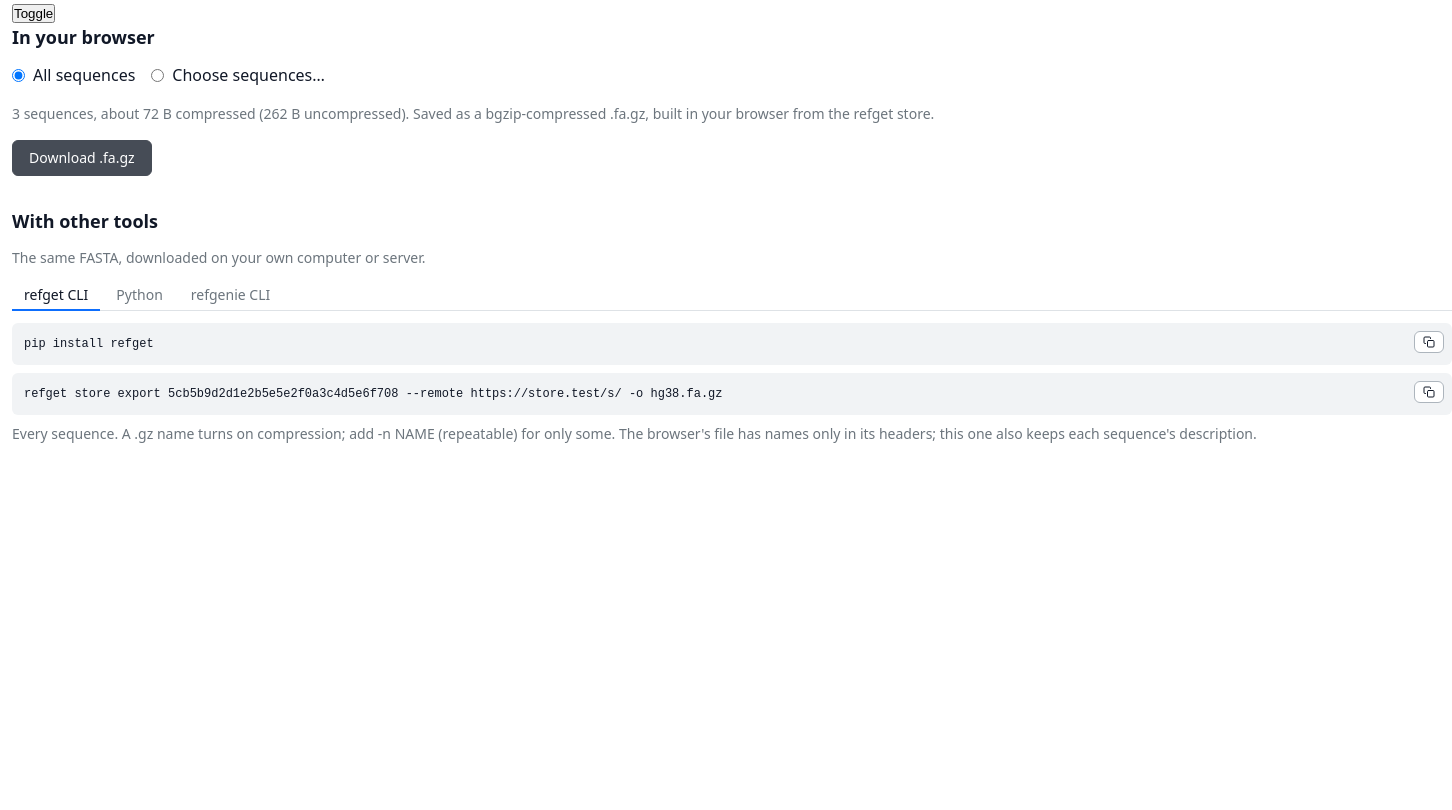
Scenario: Download tab › disables sequences it cannot rebuild, and downloads the rest
Expected: the text "3 sequences" is shown, [12,104,413,123]
Click the radio button labelled "Choose sequences…": click(158, 75) [151,68,164,82]
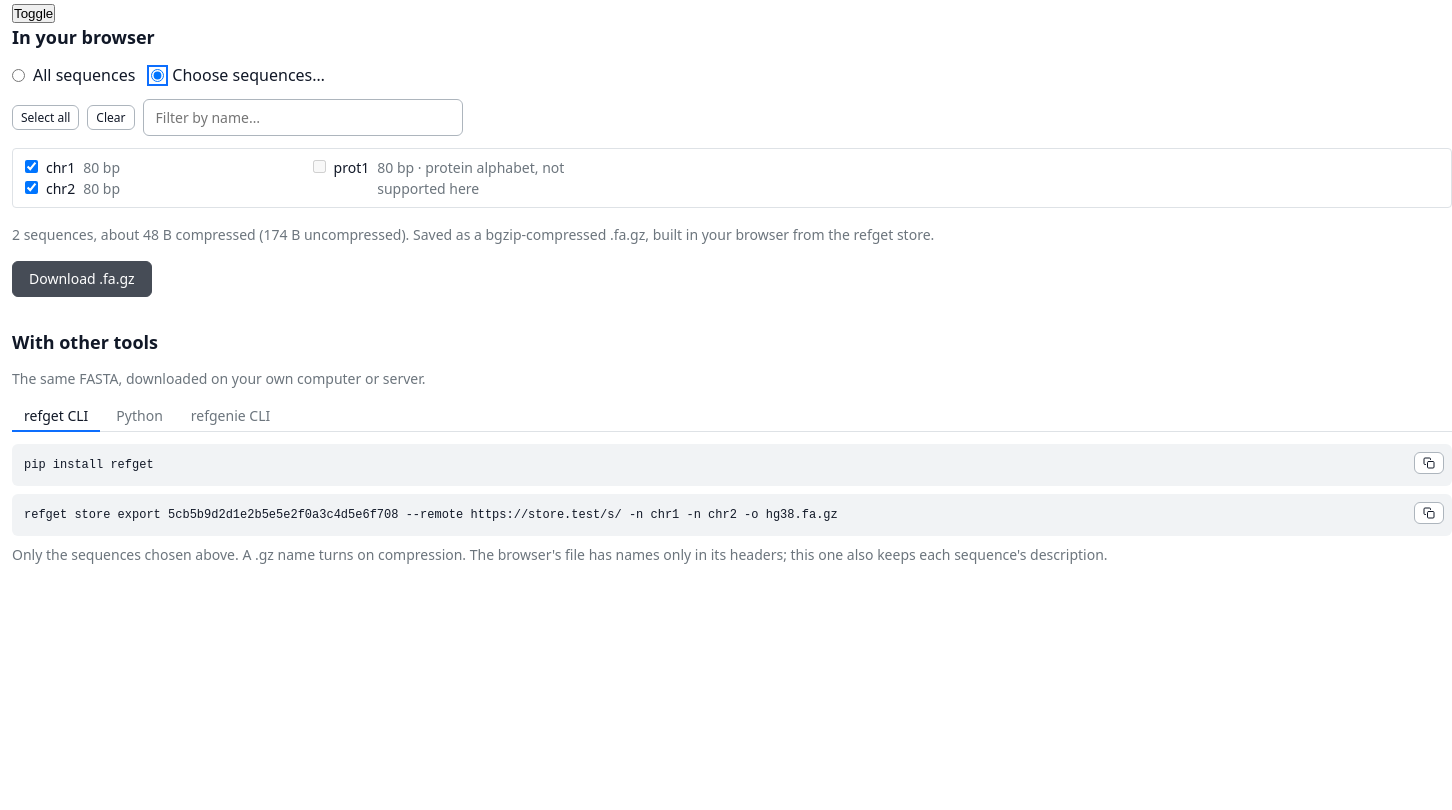
Expected: the checkbox labelled "prot1 80 bp · protein alphabet, not supported here" is disabled, [313,160,326,173]
Expected: the checkbox labelled "prot1 80 bp · protein alphabet, not supported here" is not checked, [313,160,326,173]
Expected: the text "80 bp · protein alphabet, not supported here" is shown, [377,157,576,199]
Click the button "Select all": click(46, 118) [12,105,79,130]
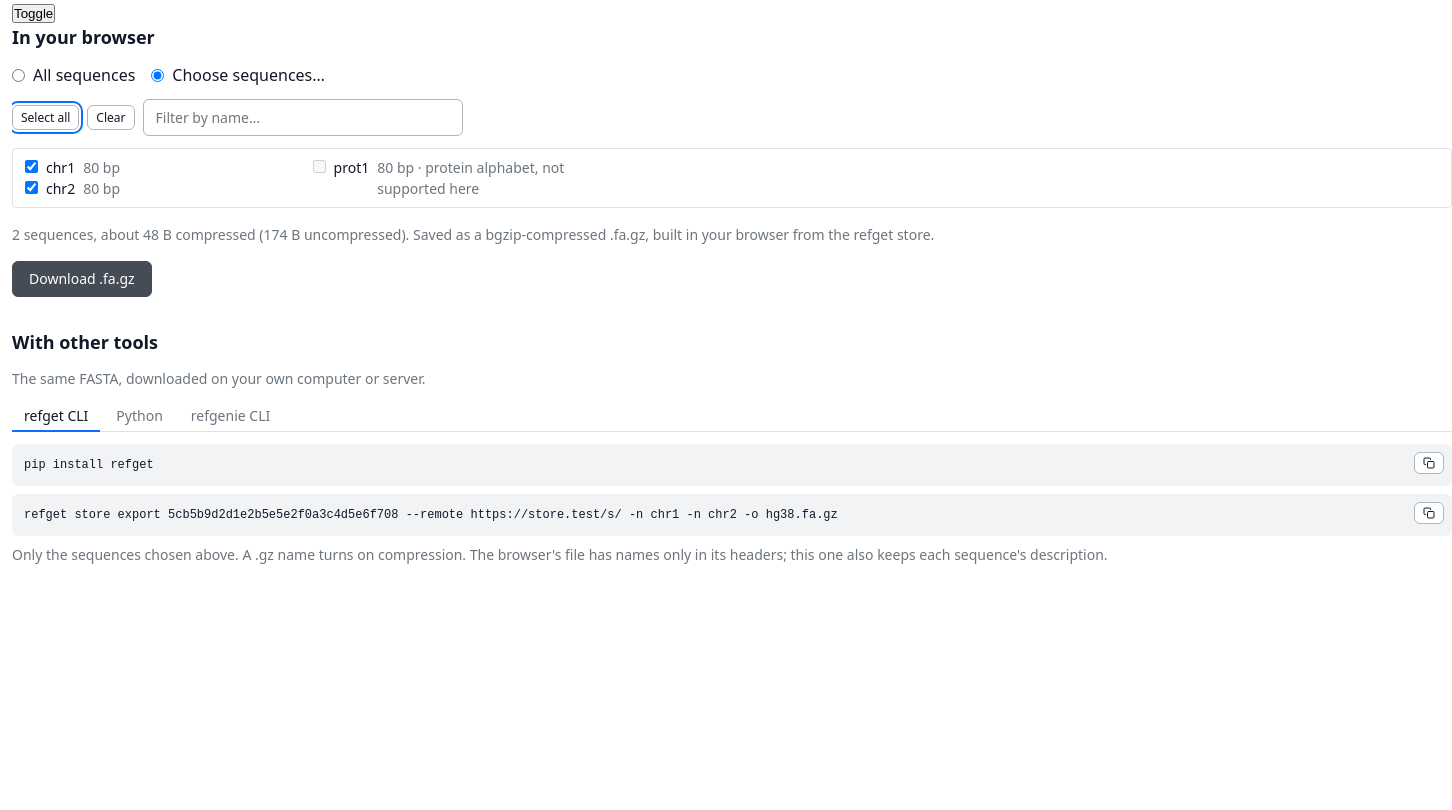
Expected: the text "2 sequences" is shown, [12,225,413,244]
Click the button "Download .fa.gz": click(82, 279) [12,261,152,296]
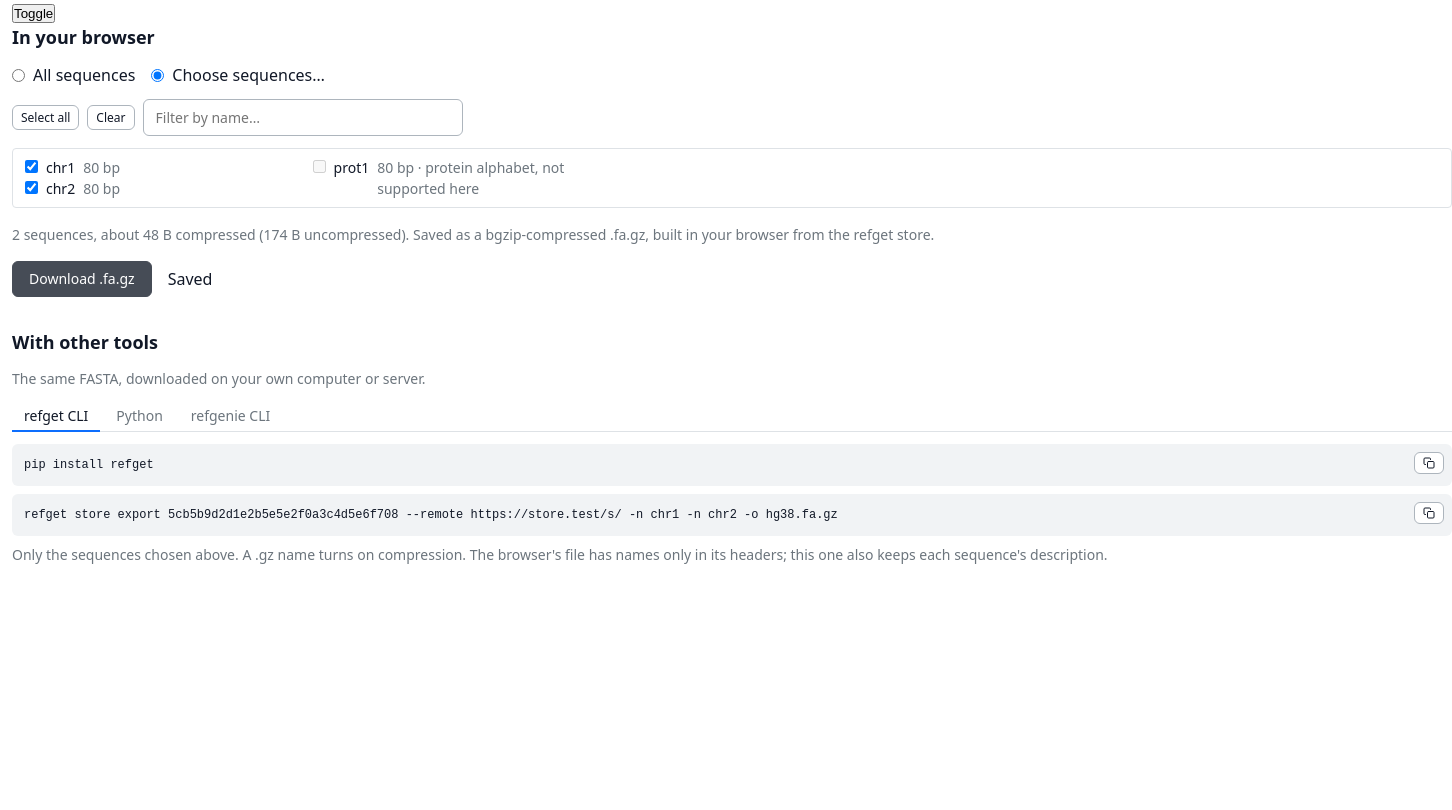
Expected: the text "Saved" is shown, [168,267,212,291]
